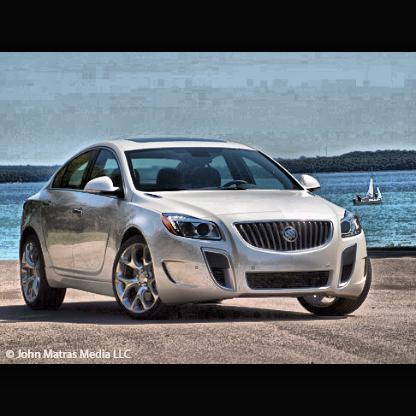Buick Regal GS 2012: (20, 137, 373, 319)
